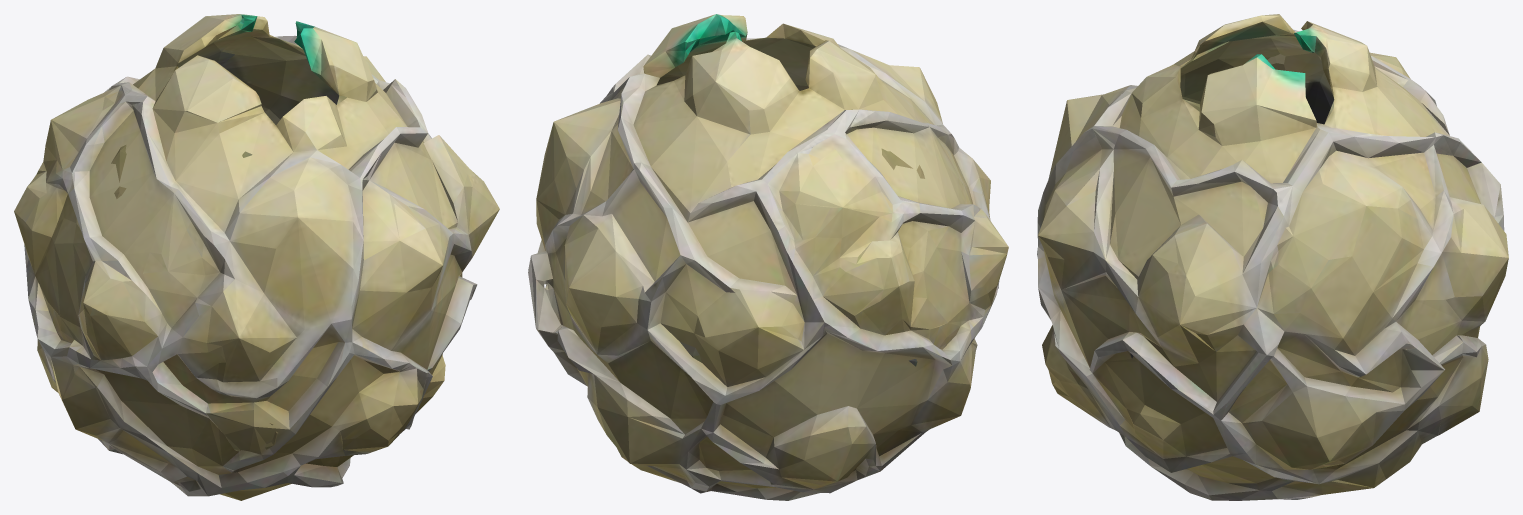
File: d_mycelium_cocon.glb
The picture shows the model from 3 angles, left to right: view 1: azimuth 30°, elevation 25°; view 2: azimuth 150°, elevation 25°; view 3: azimuth 270°, elevation 25°; orthographic projection.
Parts seen in each view (by area): view 1: geometry_0; view 2: geometry_0; view 3: geometry_0.
Boxes of the visible parts, x1,y1,x2,y2 form: geometry_0: (14, 14, 499, 500); geometry_0: (528, 14, 1008, 500); geometry_0: (1037, 14, 1508, 500).
Size of the model in its own units: 0.9146 by 0.9925 by 0.8976.
Materials: 1 (1 with a texture image).
